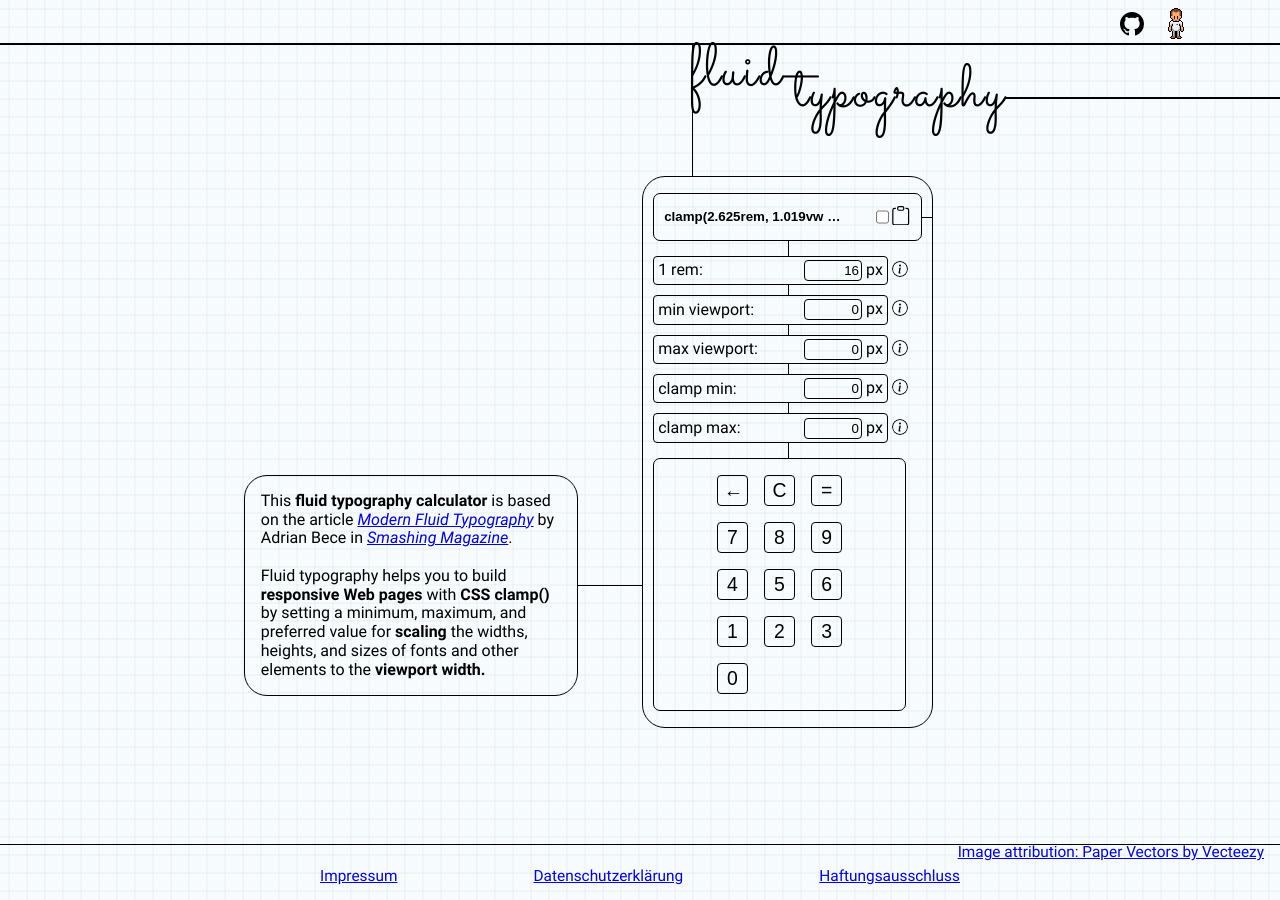
it: tests keyboard interactions with input fields › tests that input from keyboard 1) removes leading zeroes and 2) that input length does not exceed 4 digits
Type "020" into the field labelled "min viewport:". click: (833, 310)
box: [804,299,862,320]
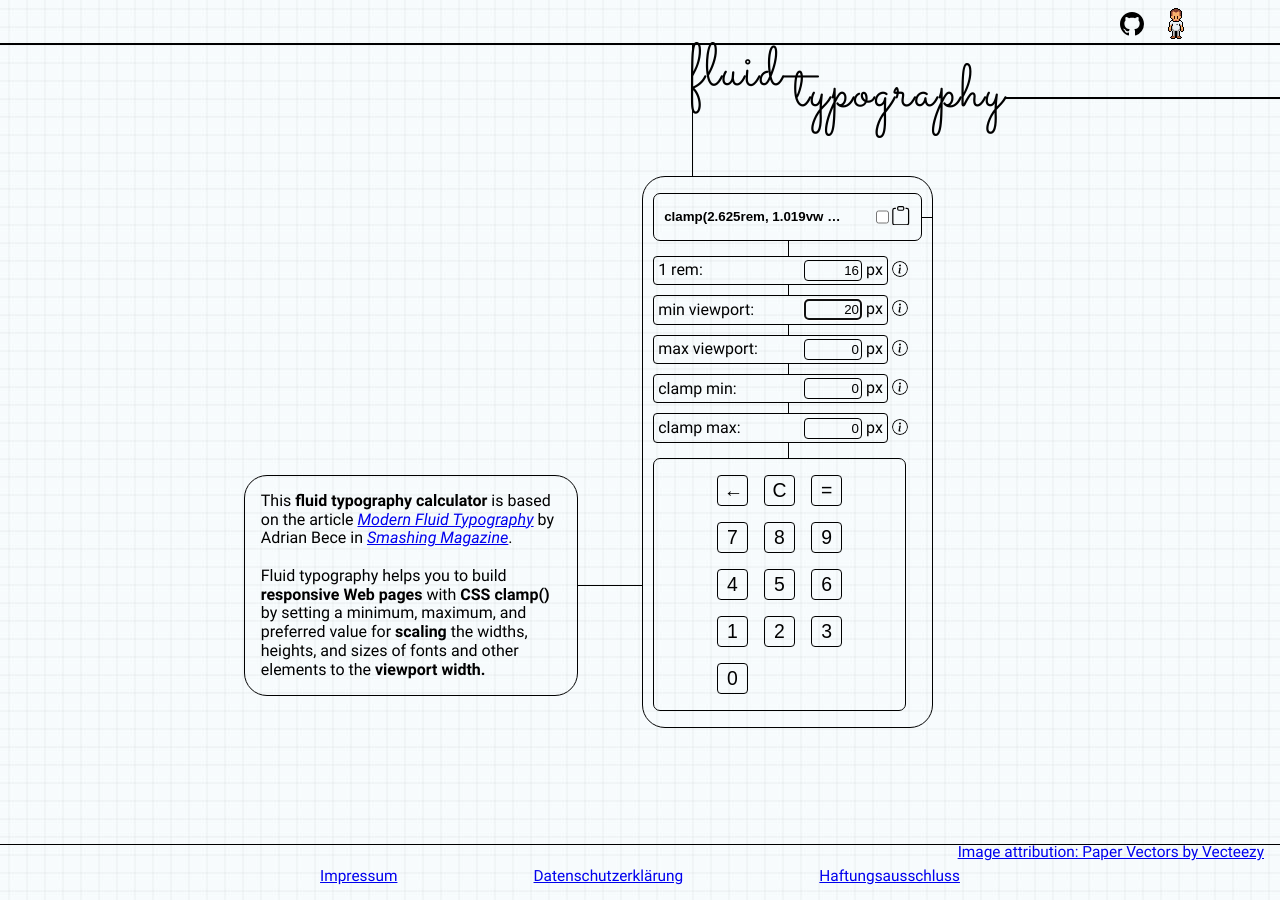
Type "0203456" into the field labelled "max viewport:". click: (833, 349)
box: [804,339,862,360]
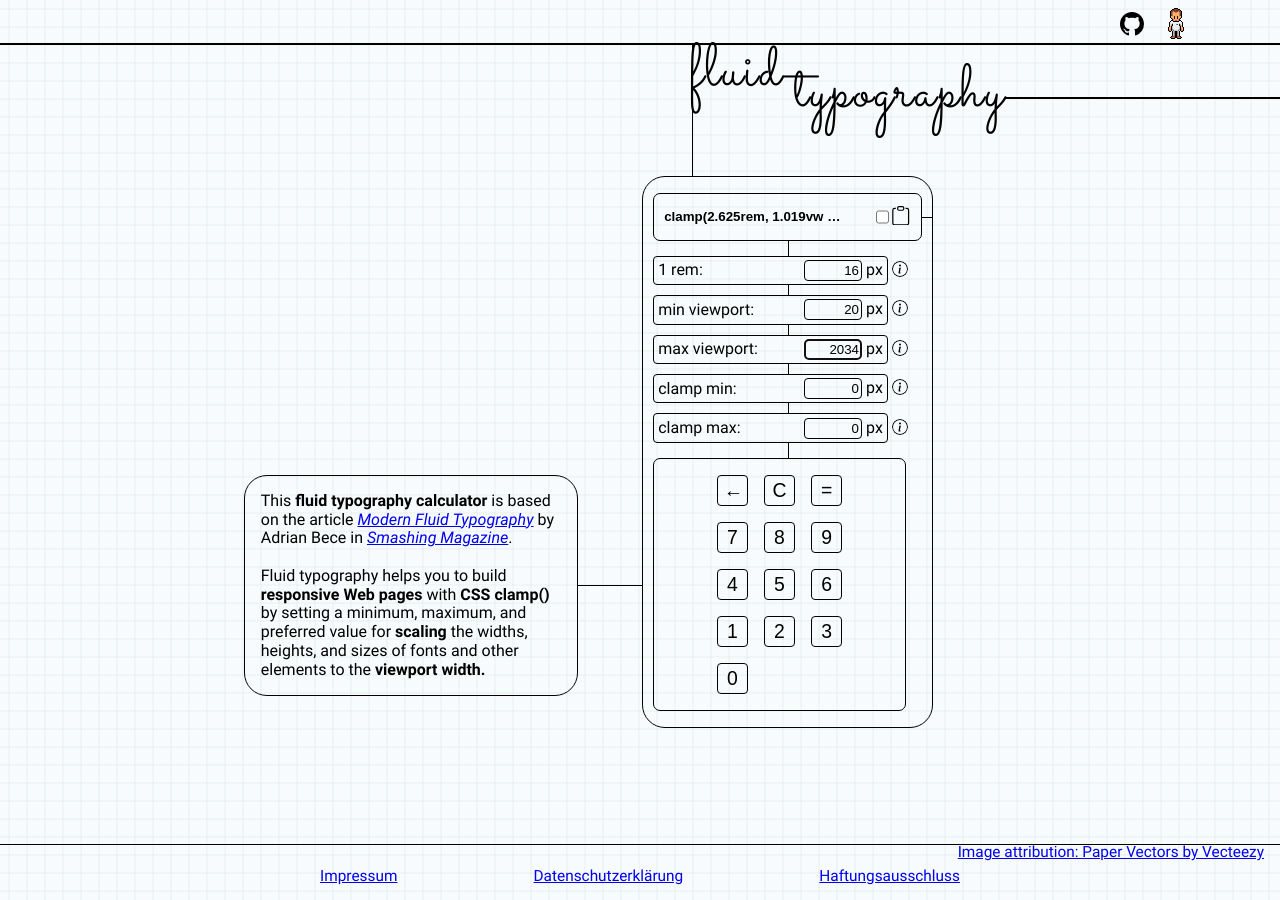
Result: the field labelled "min viewport:" holds "20" at [804,299,862,320]
Result: the field labelled "max viewport:" holds "2034" at [804,339,862,360]
